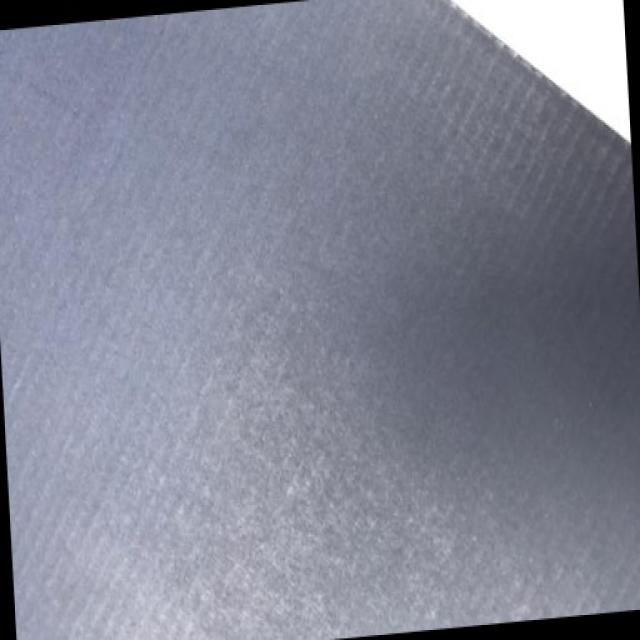carton: (80, 51, 452, 418)
